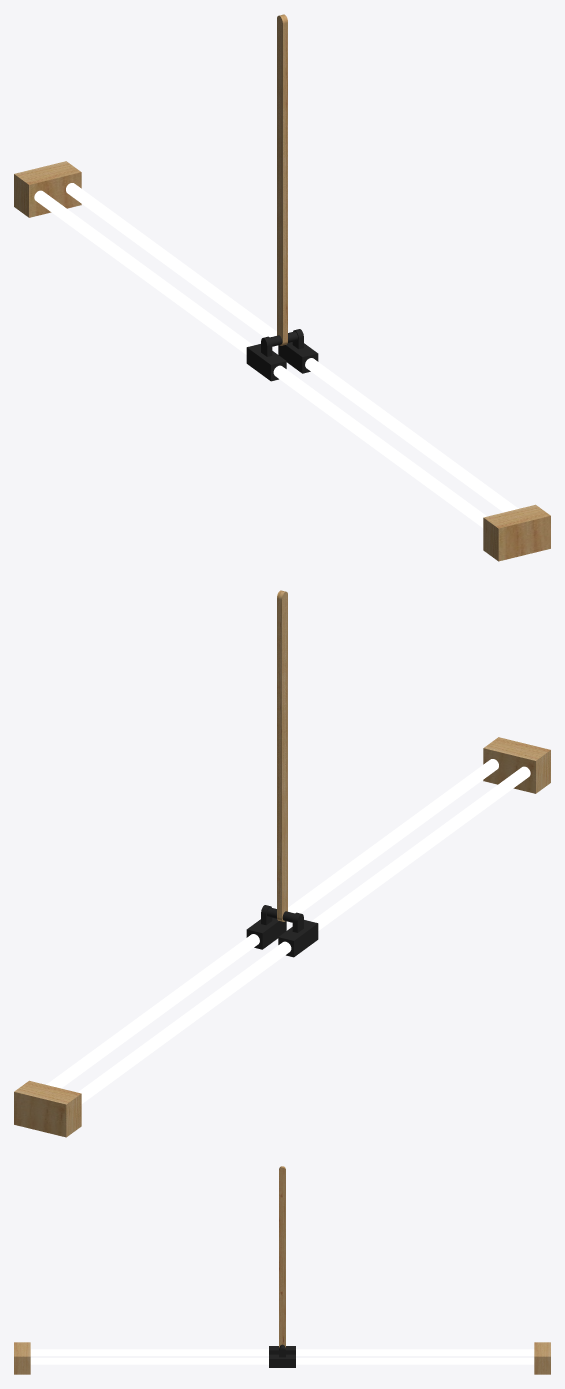
Rendered from pendulum_v6.glb.
3 views of the same model, one above another, from view 1: azimuth 30°, elevation 25°; view 2: azimuth 150°, elevation 25°; view 3: azimuth 270°, elevation 25° (orthographic). The views are drawn at different scales.
Parts seen in each view (by area): view 1: track, rod, tracksup1, tracksup2, cart; view 2: track, rod, tracksup2, tracksup1, cart; view 3: track, rod, cart, tracksup1, tracksup2.
Part boxes in pixels (left/top/right/bottom): track: left=34, top=183, right=518, bottom=527; rod: left=277, top=14, right=287, bottom=345; tracksup1: left=483, top=504, right=550, bottom=561; tracksup2: left=14, top=161, right=81, bottom=217; cart: left=246, top=329, right=318, bottom=381; track: left=46, top=759, right=530, bottom=1103; rod: left=277, top=590, right=287, bottom=921; tracksup2: left=14, top=1080, right=81, bottom=1137; tracksup1: left=483, top=737, right=550, bottom=793; cart: left=246, top=905, right=318, bottom=957; track: left=30, top=1349, right=534, bottom=1364; rod: left=279, top=1166, right=285, bottom=1347; cart: left=269, top=1344, right=295, bottom=1367; tracksup1: left=14, top=1342, right=30, bottom=1374; tracksup2: left=534, top=1342, right=550, bottom=1374.
Size of the model in its own units: 0.05 by 0.33 by 0.8.
Materials: 5 (3 with a texture image).
